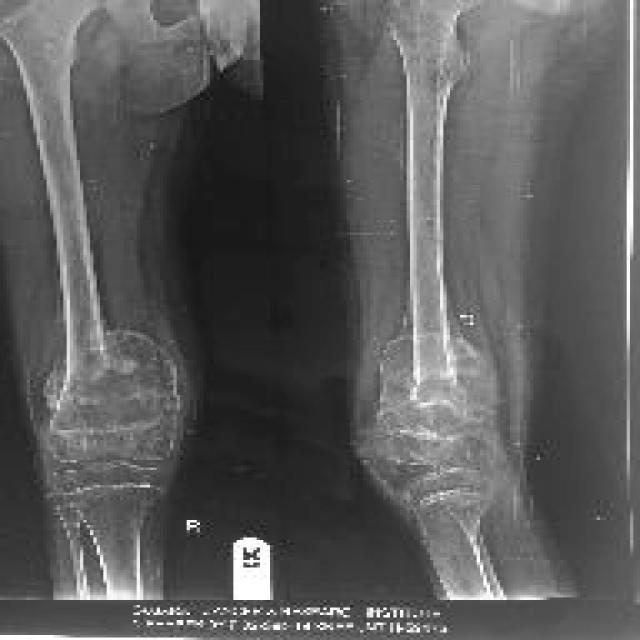bone-cancer: (367, 328, 491, 445), (44, 325, 173, 425)
